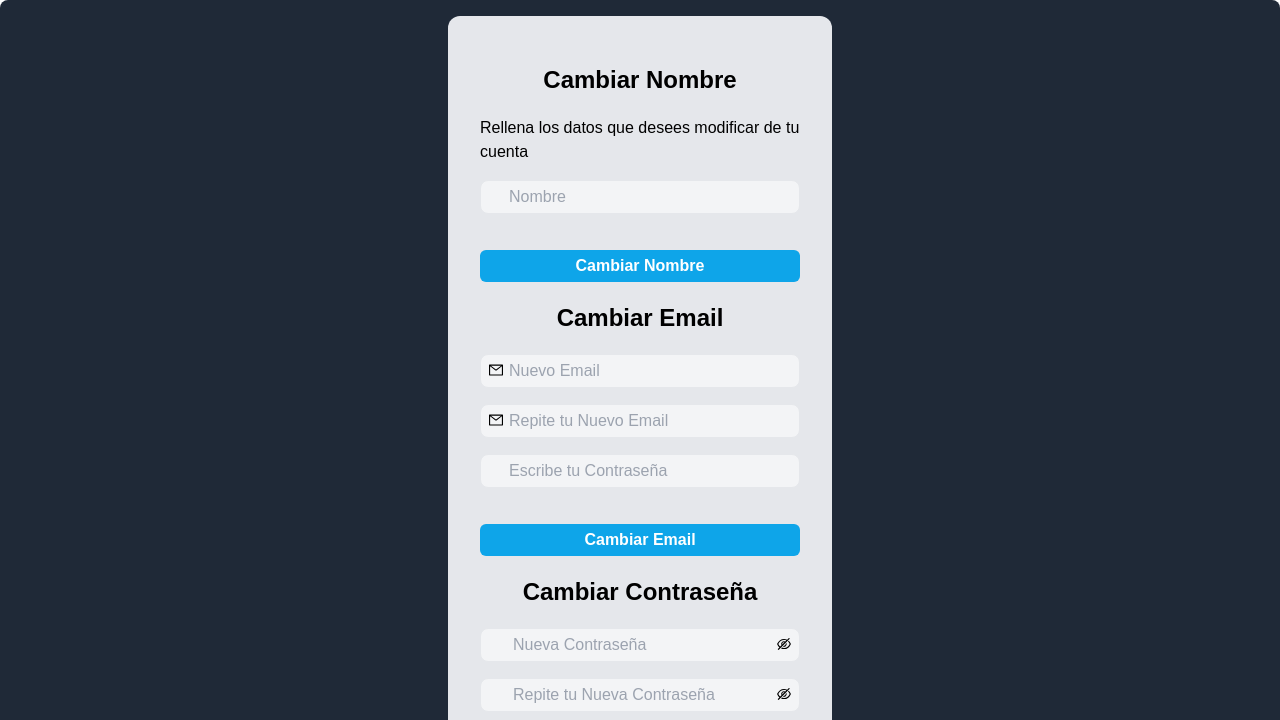
Test: Error message is shown when users_put fails
This screenshot has width=1280, height=720.
Click the button "Cambiar Nombre": (640, 266) [480,250,800,282]
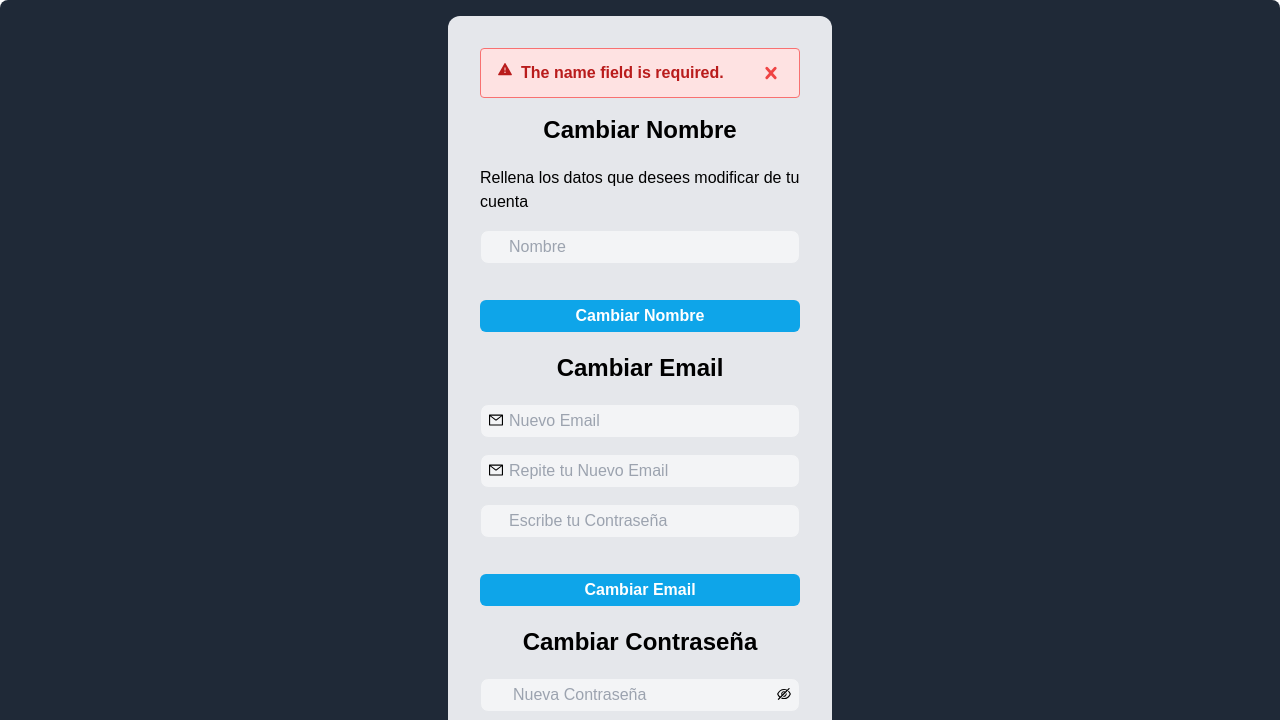
Expected: the text "The name field is required." is shown, [521,61,724,85]
